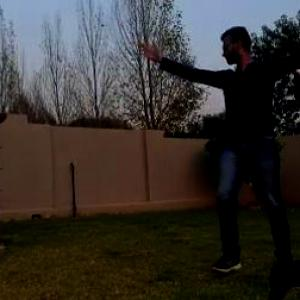takeoff: (69, 0, 300, 299)
